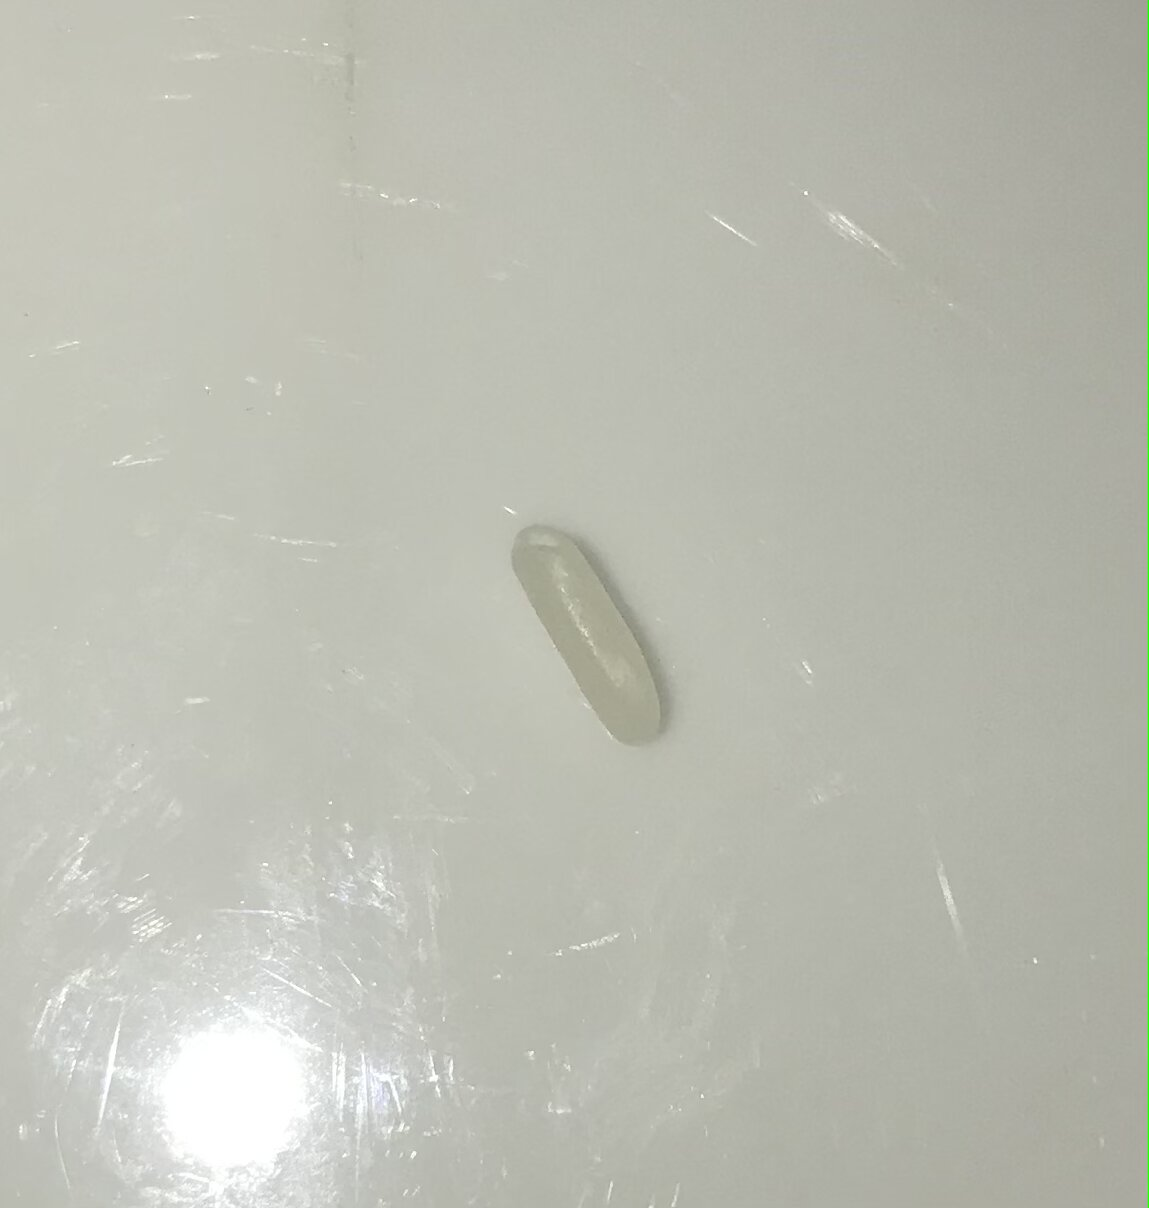Gao Lai Sua: (501, 513, 674, 755)
